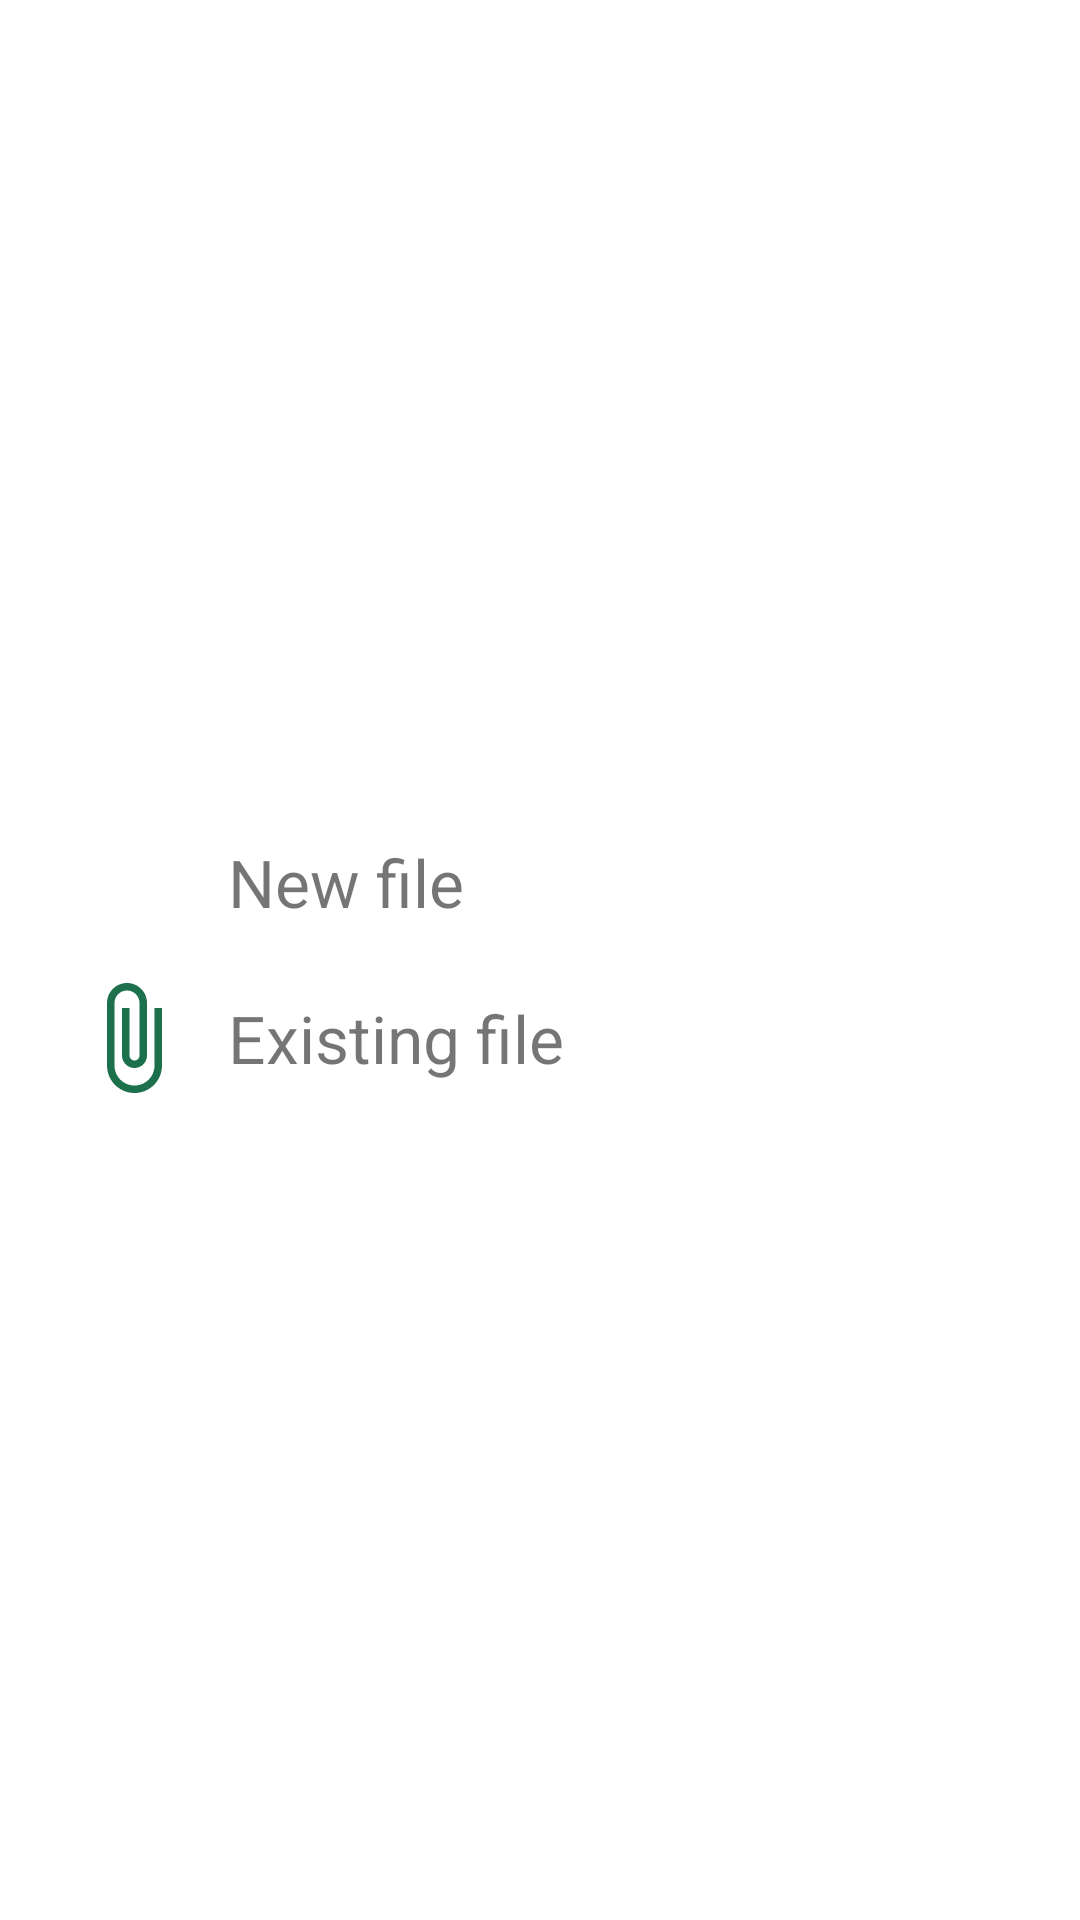

Icon click points for this 1080px×1920px phone screenshot, format (x=x, y=y):
attach: (x=134, y=1038)
